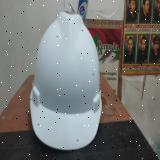Helmet: (30, 11, 102, 150)
